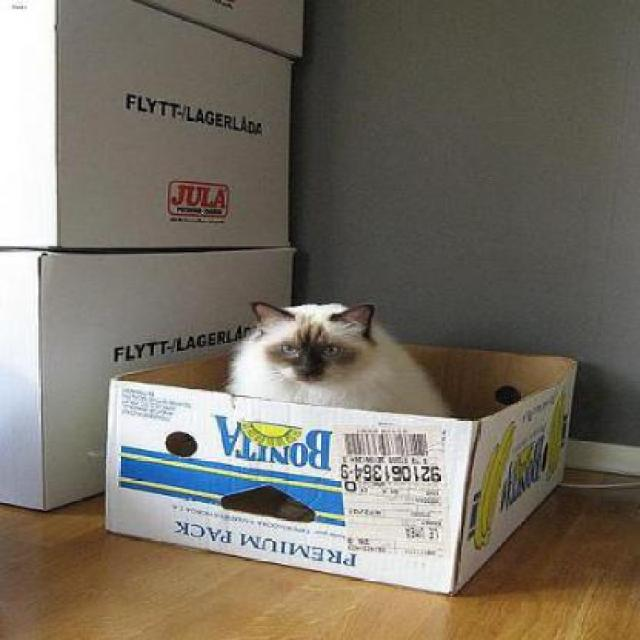cat: (228, 297, 450, 421)
